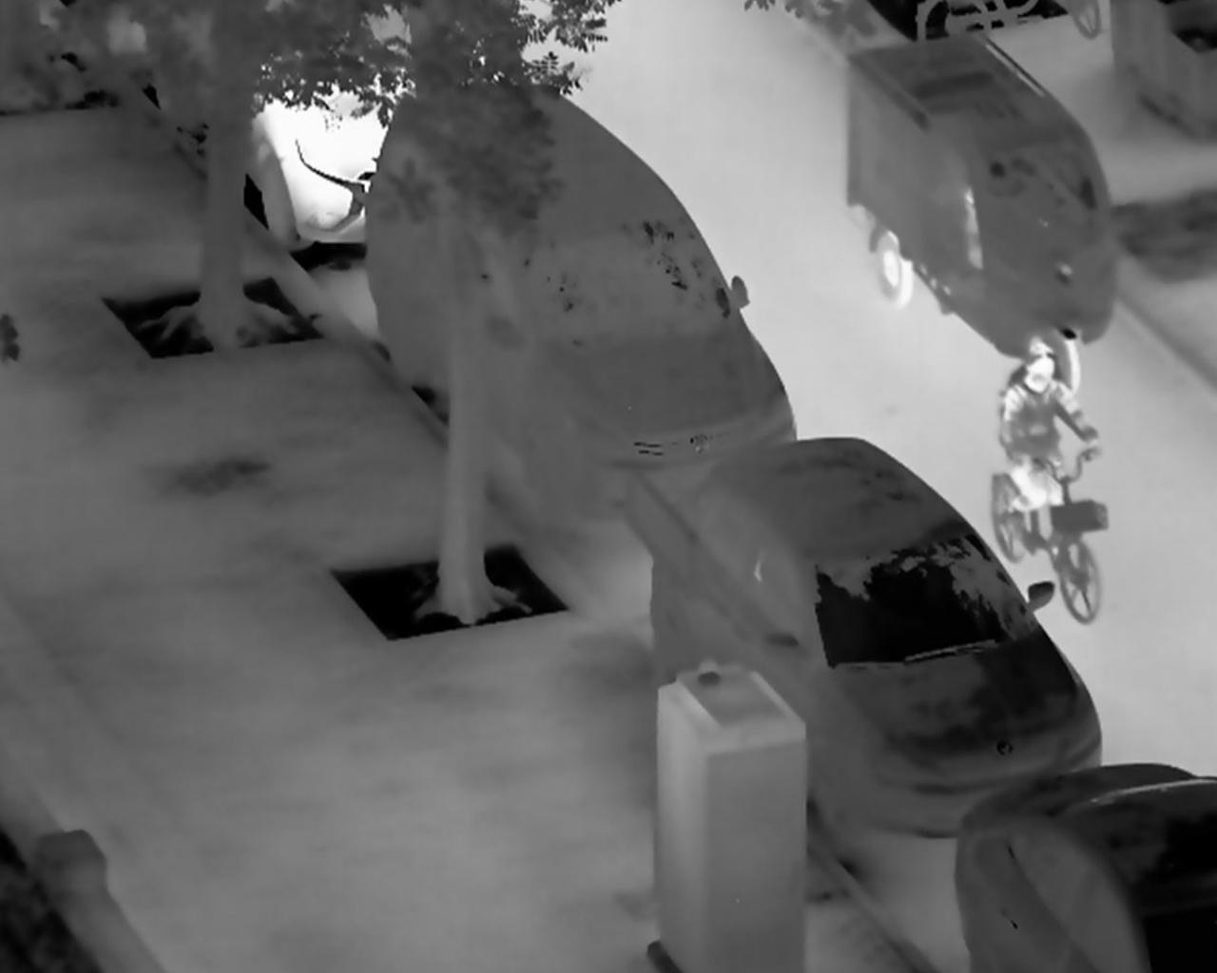person: (997, 344, 1103, 561)
